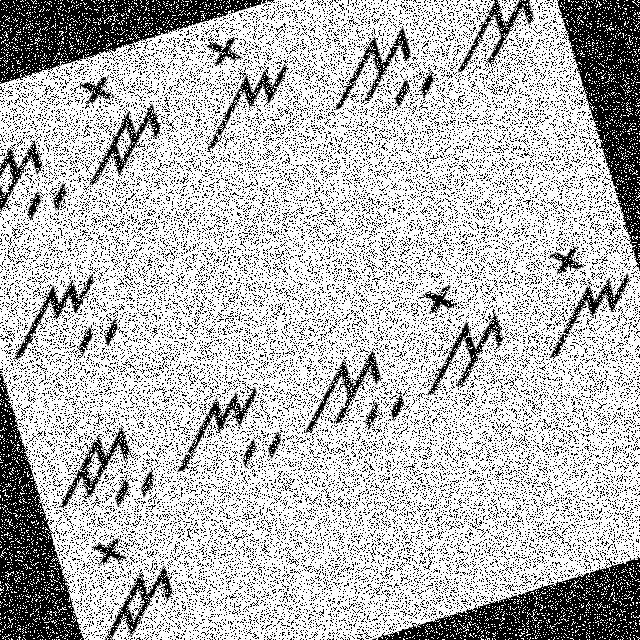jah: (33, 406, 165, 530), (0, 123, 81, 255)
jo: (55, 53, 177, 195), (68, 517, 197, 639)
nyah: (154, 376, 290, 494), (0, 261, 135, 379)
nyo: (175, 12, 314, 154), (510, 219, 639, 368)
sah: (308, 5, 443, 130), (276, 332, 412, 450)
so: (394, 268, 521, 400), (424, 0, 549, 82)
